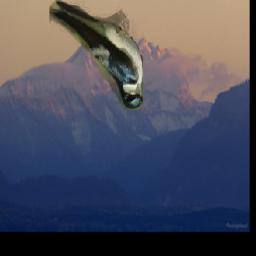Swallow: (50, 0, 144, 110)
